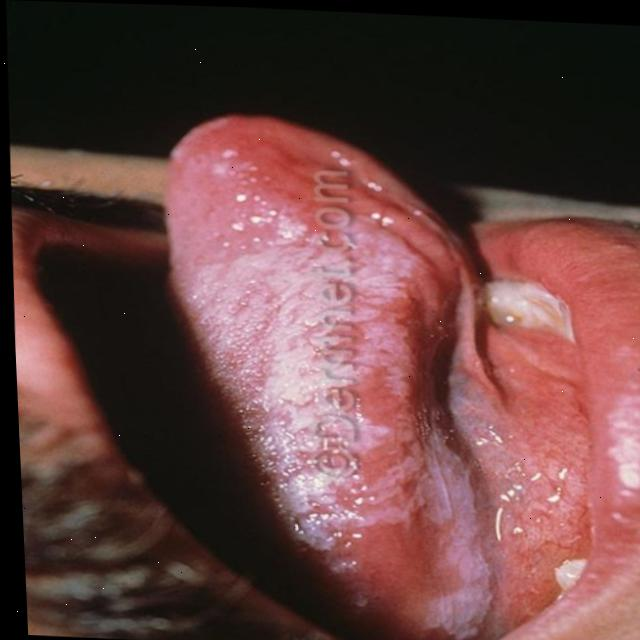Shingles: (222, 232, 362, 528)
